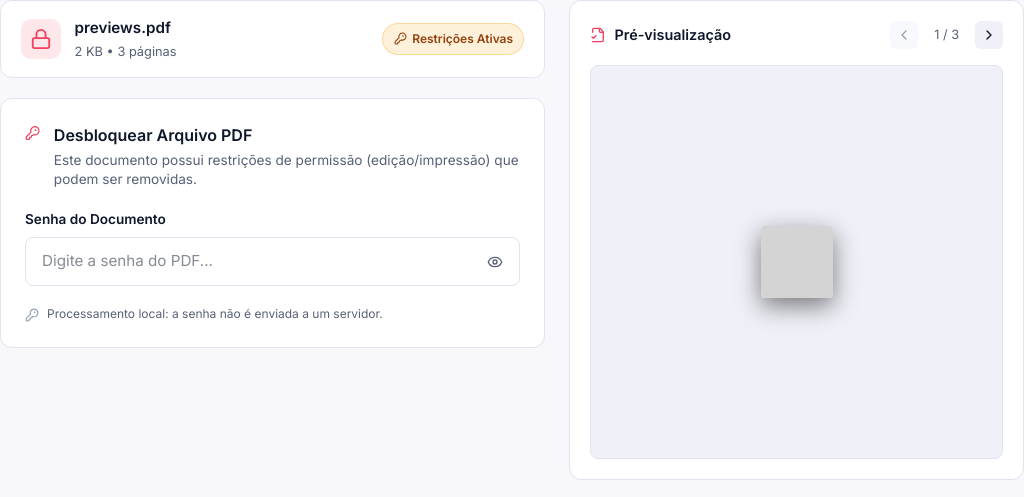
Scenario: UnlockPdfPanel › solicita a página atual e não reutiliza miniatura da primeira nas demais
The image size is (1024, 497).
What coordinates should you click on to do the following:
click the button named "Próxima página"
I would click on:
 (989, 35)
Its box is x1=975 y1=21 x2=1003 y2=49.
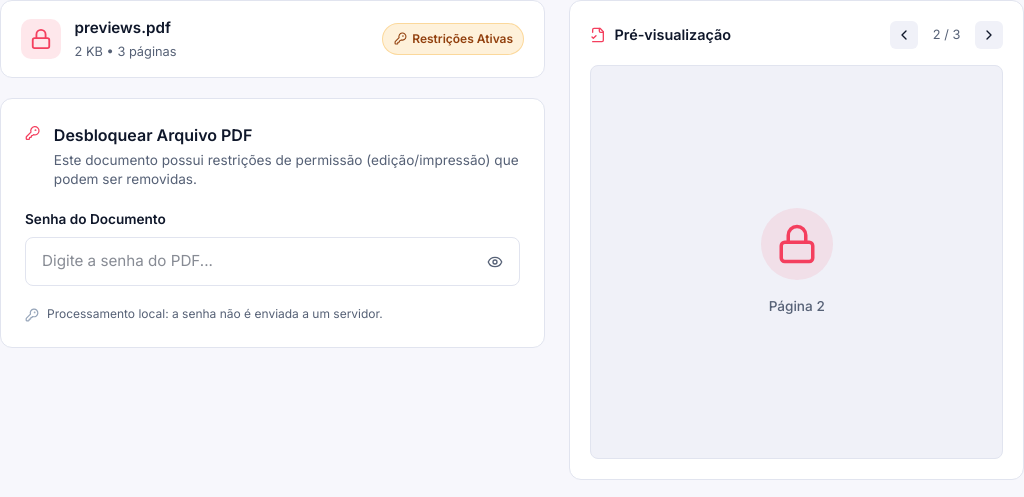
expect the picture is gone: met
expect the text "Página 2" is shown: met, box x1=769 y1=296 x2=825 y2=316
